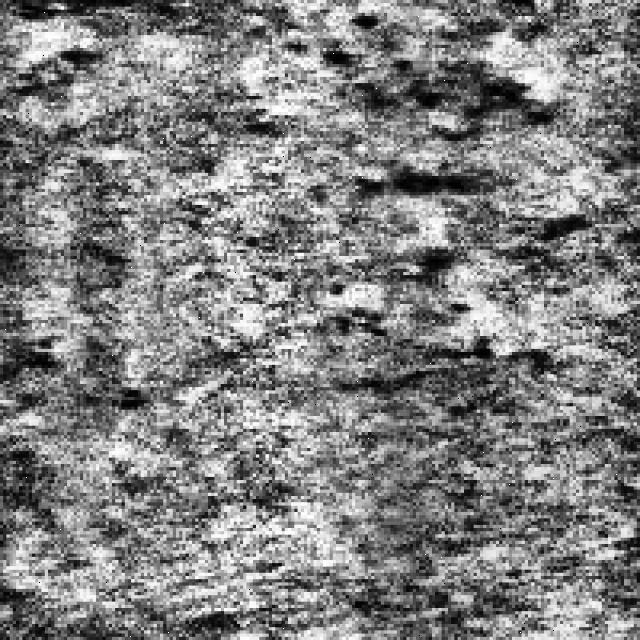Crazing: (317, 7, 557, 195), (320, 240, 493, 378), (0, 329, 150, 409)
